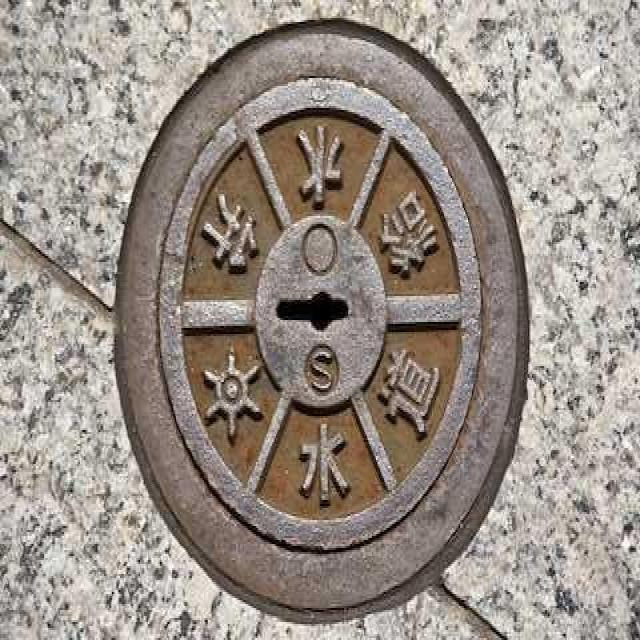manhole: (116, 21, 529, 620)
